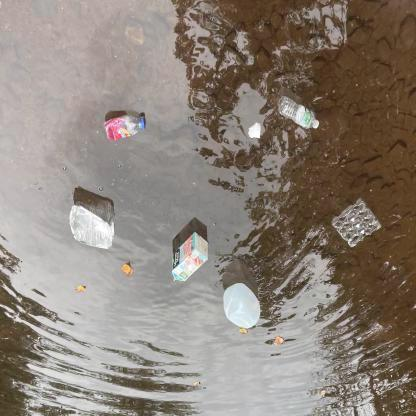Metal: (67, 197, 119, 255)
Plastic: (328, 195, 383, 252), (218, 282, 264, 333), (99, 109, 150, 145), (276, 94, 322, 133)
Trash: (246, 119, 264, 145)
